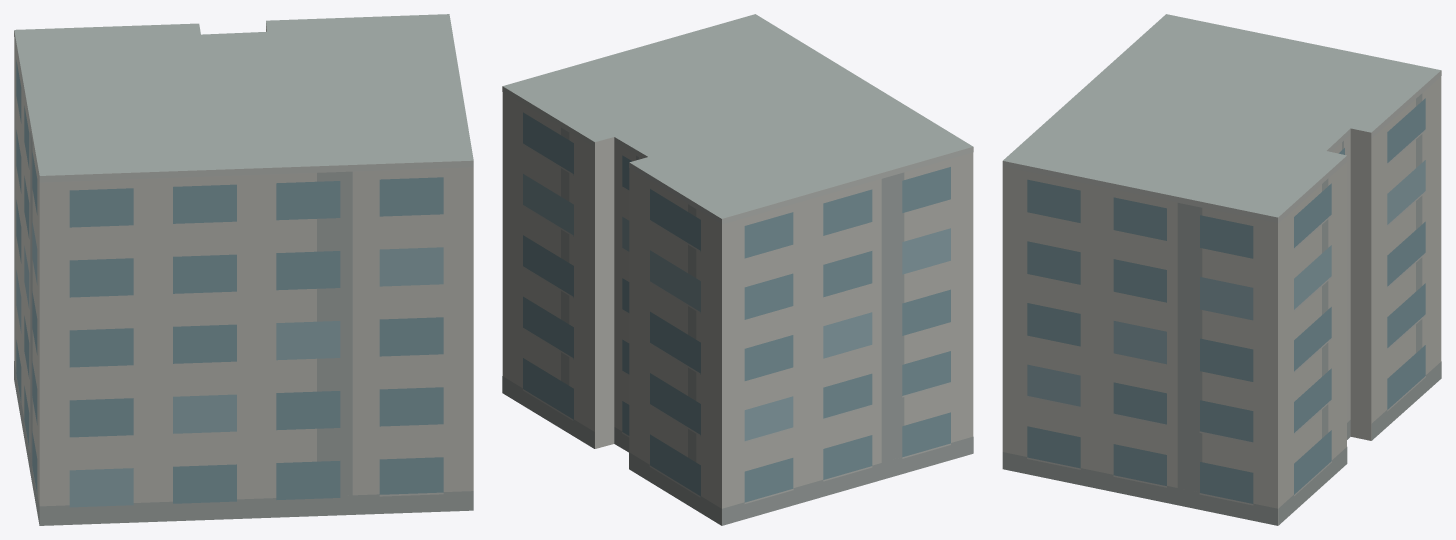
File: survey-upis-32886054.glb
3 views of the same model, side by side, from view 1: azimuth 30°, elevation 25°; view 2: azimuth 150°, elevation 25°; view 3: azimuth 270°, elevation 25° (orthographic). The views are drawn at different scales.
Visible parts, largest first — view 1: survey-upis-32886054.tmp; view 2: survey-upis-32886054.tmp; view 3: survey-upis-32886054.tmp.
Part boxes in pixels (x1=…): survey-upis-32886054.tmp: x1=14, y1=14, x2=473, y2=525; survey-upis-32886054.tmp: x1=502, y1=14, x2=973, y2=525; survey-upis-32886054.tmp: x1=1002, y1=14, x2=1441, y2=525.
Bounding box in the file's own units: 18.27 × 12.9 × 16.65.
